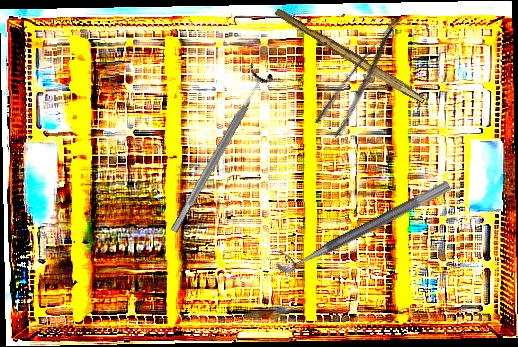Dressing Forceps: (312, 14, 420, 140)
Fixation Ring: (269, 165, 453, 278), (160, 62, 277, 239)
Scalpel Handle: (272, 6, 429, 105)
